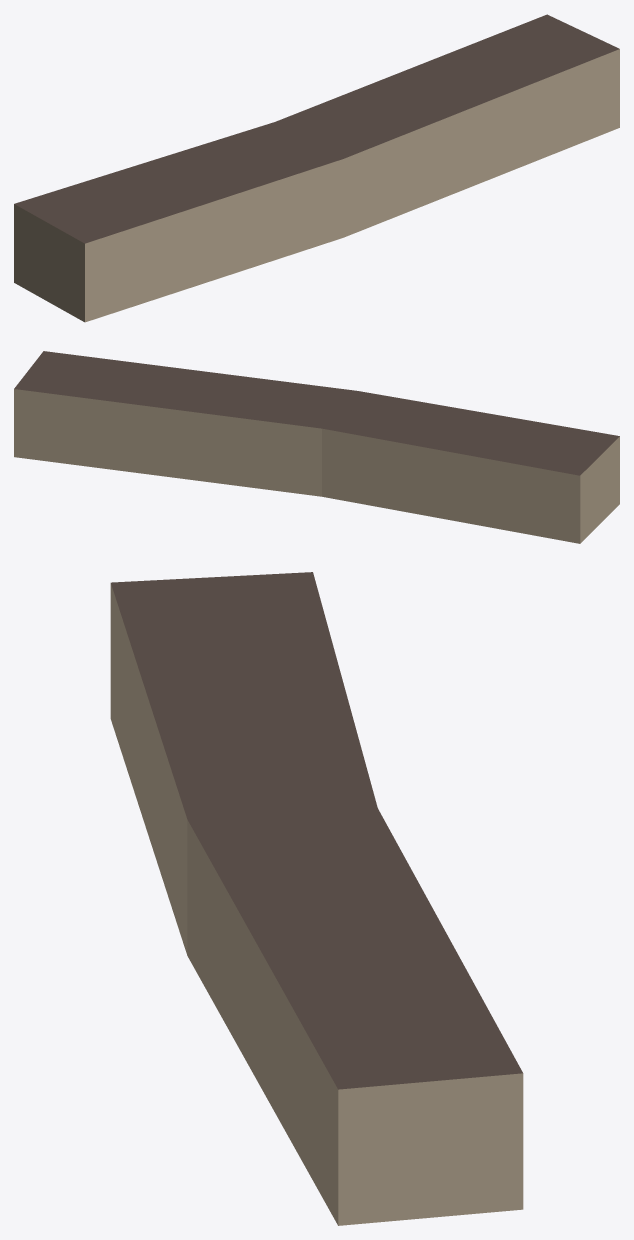
3 renders of one model, top to bottom at view 1: azimuth 30°, elevation 25°; view 2: azimuth 150°, elevation 25°; view 3: azimuth 270°, elevation 25°, orthographic. The views are drawn at different scales.
Parts seen in each view (by area): view 1: HP-w1122519252; view 2: HP-w1122519252; view 3: HP-w1122519252.
Boxes of the visible parts, box(x1,y1,x2,y2) form: HP-w1122519252: box(14, 14, 619, 322); HP-w1122519252: box(14, 351, 619, 543); HP-w1122519252: box(110, 572, 523, 1225).
Size of the model in its own units: 73.27 by 9 by 24.69.
